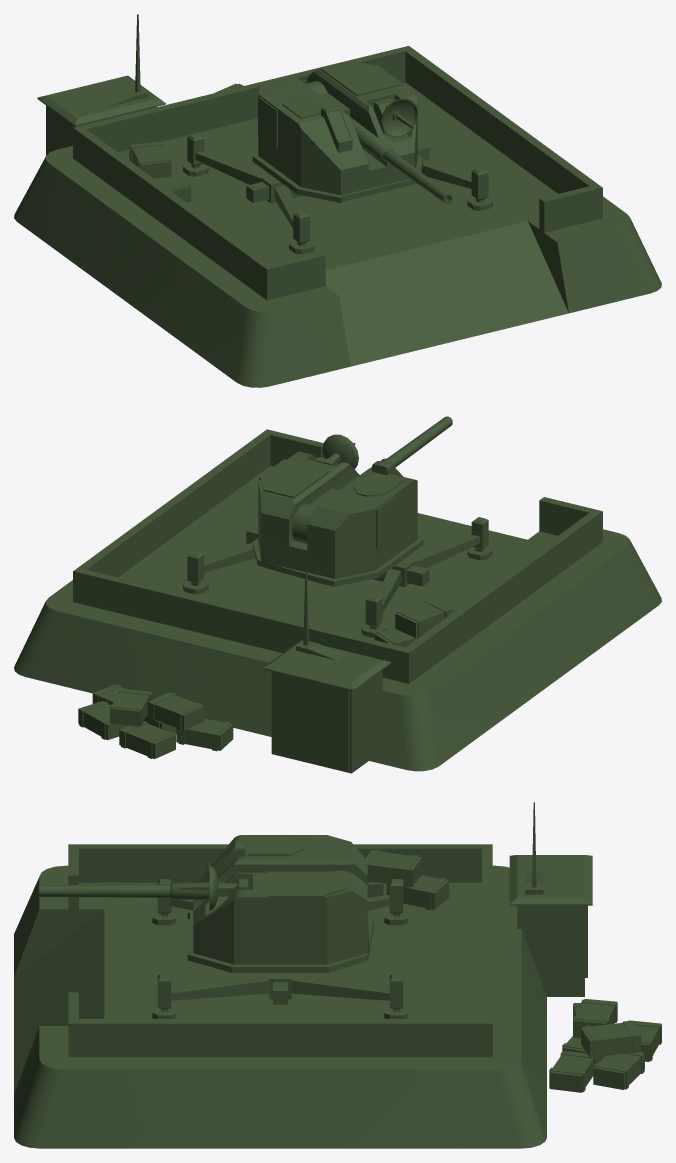
The model's file is Ground_Air_Turret_Level1.fbx.
3 views of the same model, one above another, from view 1: azimuth 30°, elevation 25°; view 2: azimuth 150°, elevation 25°; view 3: azimuth 270°, elevation 25° (orthographic). The views are drawn at different scales.
Visible parts, largest first — view 1: Base, Turret, Gun, Radar; view 2: Base, Turret, Gun, Radar, Breech; view 3: Base, Turret, Gun, Radar.
Part boxes in pixels (left/top/right/bottom): Base: left=14, top=14, right=661, bottom=387; Turret: left=252, top=61, right=423, bottom=202; Gun: left=347, top=114, right=452, bottom=204; Radar: left=381, top=98, right=418, bottom=137; Base: left=14, top=429, right=661, bottom=773; Turret: left=252, top=451, right=423, bottom=586; Gun: left=370, top=416, right=452, bottom=468; Radar: left=322, top=434, right=358, bottom=469; Breech: left=292, top=488, right=338, bottom=543; Base: left=14, top=802, right=661, bottom=1148; Turret: left=187, top=835, right=373, bottom=972; Gun: left=39, top=882, right=224, bottom=899; Radar: left=179, top=865, right=237, bottom=910.
Bounding box in the file's own units: 480 × 187 × 583.
